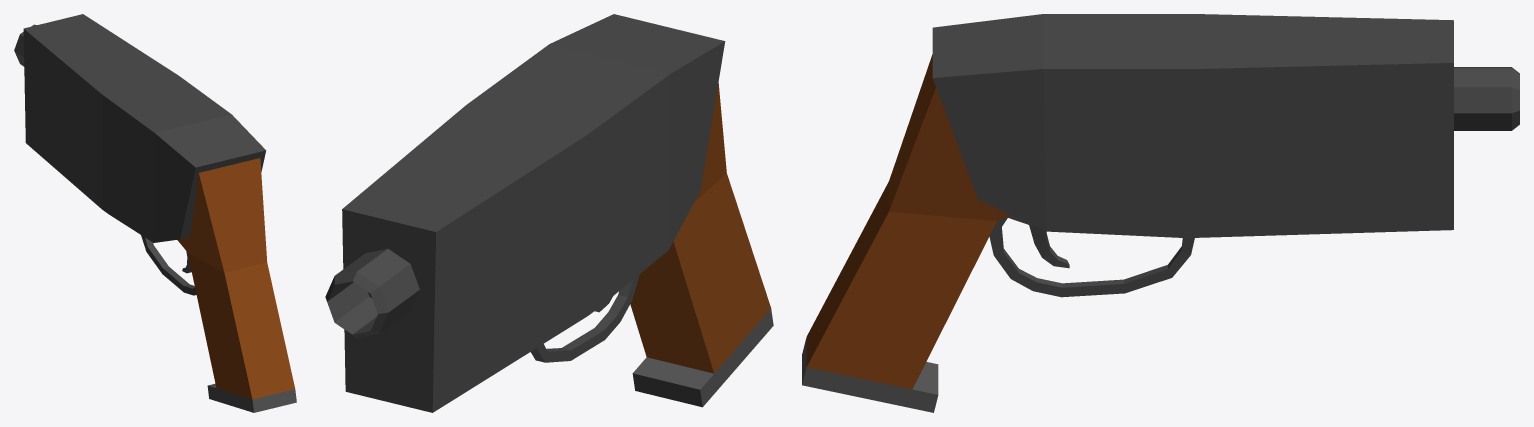
Rendered from gun_9e45e03e.glb.
The picture shows the model from 3 angles, left to right: view 1: azimuth 30°, elevation 25°; view 2: azimuth 150°, elevation 25°; view 3: azimuth 270°, elevation 25°; orthographic projection. The views are drawn at different scales.
Visible parts, largest first — view 1: Cube, Cube.001; view 2: Cube, Cube.001; view 3: Cube, Cube.001.
Part boxes in pixels (x1,y1,x2,y2): Cube: [14, 14, 266, 295]; Cube.001: [177, 158, 296, 412]; Cube: [325, 14, 725, 412]; Cube.001: [630, 82, 773, 407]; Cube: [932, 14, 1519, 297]; Cube.001: [802, 54, 1010, 412].
Size of the model in its own units: 1.58 by 4.75 by 8.69.
